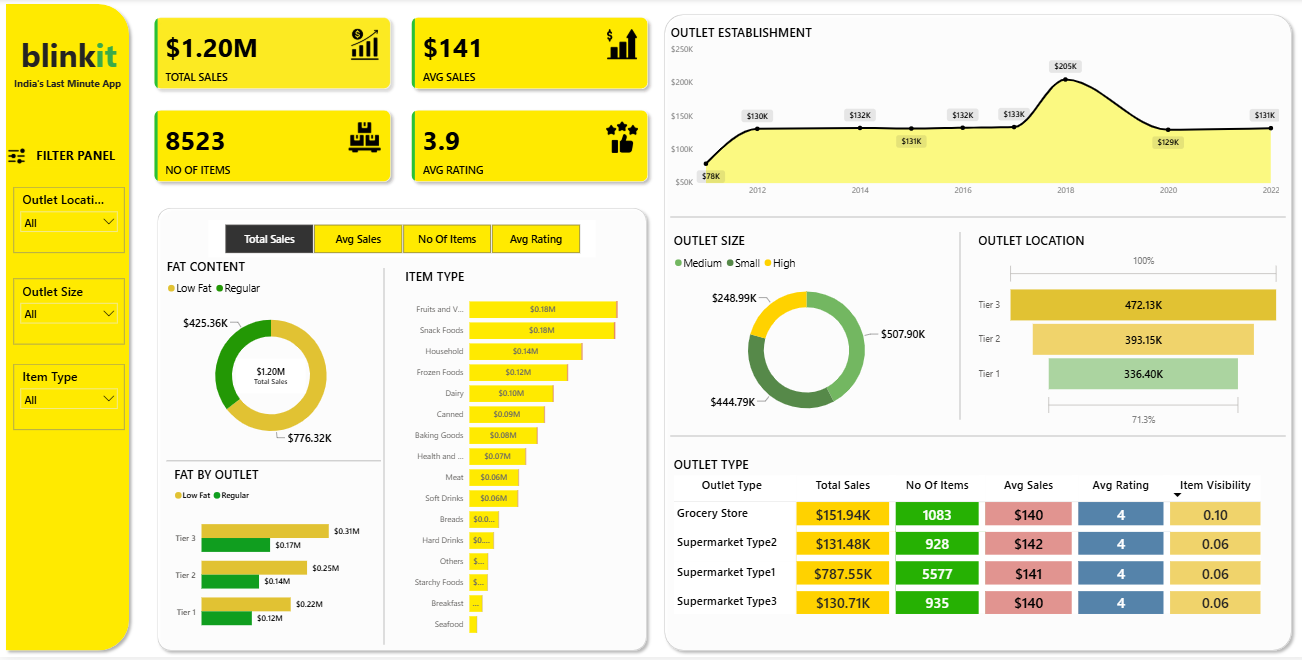

The page's visual inventory and layout, read from the dashboard file:
{"tool":"powerbi","page":{"name":"Page 1","canvas":[2000,1000],"ordinal":0},"visuals":[{"type":"shape","box":[0,0,205,1000],"z":0},{"type":"textbox","box":[24.3,48.6,159.1,88.4],"z":1000},{"type":"textbox","box":[11.4,113.9,182.2,41],"z":2000},{"type":"cardVisual","fields":{"Data":["BlinkIT Grocery Data.Total Sales","BlinkIT Grocery Data.Avg Sales","BlinkIT Grocery Data.No Of Items","BlinkIT Grocery Data.Avg Rating"]},"box":[205,0,808.7,309.8],"z":3000},{"type":"shape","box":[230.1,309.8,760.8,690.2],"z":4000},{"type":"donutChart","title":"FAT CONTENT","fields":{"Y":["BlinkIT Grocery Data.Total Sales"],"Category":["BlinkIT Grocery Data.Item Fat Content"]},"box":[248.3,394.1,325.7,300.7],"z":5000},{"type":"cardVisual","fields":{"Data":["BlinkIT Grocery Data.Total Sales"]},"box":[353.1,542.1,116.2,63.8],"z":6000},{"type":"slicer","fields":{"Values":["Metrics 2.Metrics"]},"box":[316.6,337.1,587.7,56.9],"z":7000},{"type":"clusteredBarChart","title":"FAT BY OUTLET","fields":{"Y":["BlinkIT Grocery Data.Total Sales"],"Category":["BlinkIT Grocery Data.Outlet Location Type"],"Series":["BlinkIT Grocery Data.Item Fat Content"]},"box":[259.8,1122.7,383.5,253.6],"z":8000},{"type":"shape","box":[253.6,1098,395.9,9.3],"z":9000},{"type":"shape","box":[252.8,694.8,325.7,15.9],"z":10000},{"type":"barChart","title":"ITEM TYPE","fields":{"Y":["BlinkIT Grocery Data.Total Sales","BlinkIT Grocery Data.Avg Sales","BlinkIT Grocery Data.No Of Items","BlinkIT Grocery Data.Avg Rating"],"Category":["BlinkIT Grocery Data.Item Type"]},"box":[610.5,410,357.6,571.8],"z":11000},{"type":"shape","box":[555.8,410,54.7,571.8],"z":12000},{"type":"clusteredBarChart","title":"FAT BY OUTLET","fields":{"Y":["BlinkIT Grocery Data.Total Sales"],"Category":["BlinkIT Grocery Data.Outlet Location Type"],"Series":["BlinkIT Grocery Data.Item Fat Content"]},"box":[259.7,710.7,303,271.1],"z":13000},{"type":"shape","box":[1000,15.9,970.4,984.1],"z":14000},{"type":"lineChart","title":"OUTLET ESTABLISHMENT","fields":{"Y":["BlinkIT Grocery Data.Total Sales"],"Category":["BlinkIT Grocery Data.Outlet Establishment Year"]},"box":[1013.7,38.7,933.9,271.1],"z":15000},{"type":"shape","box":[1018.2,328,933.9,9.1],"z":16000},{"type":"donutChart","title":"OUTLET SIZE","fields":{"Y":["BlinkIT Grocery Data.Total Sales"],"Category":["BlinkIT Grocery Data.Outlet Size"]},"box":[1018.2,355.4,412.3,300.7],"z":17000},{"type":"shape","box":[1430.5,355.4,54.7,284.7],"z":18000},{"type":"funnel","title":"OUTLET LOCATION","fields":{"Y":["Sum(BlinkIT Grocery Data.Sales)"],"Category":["BlinkIT Grocery Data.Outlet Location Type"]},"box":[1480.6,355.4,467,300.7],"z":19000},{"type":"shape","box":[1018.2,660.6,933.9,9.1],"z":20000},{"type":"pivotTable","title":"OUTLET TYPE","fields":{"Rows":["BlinkIT Grocery Data.Outlet Type"],"Values":["BlinkIT Grocery Data.Total Sales","BlinkIT Grocery Data.No Of Items","BlinkIT Grocery Data.Avg Sales","BlinkIT Grocery Data.Avg Rating","Avg(BlinkIT Grocery Data.Item Visibility)"]},"box":[1018.2,694.8,929.4,287],"z":21000},{"type":"slicer","fields":{"Values":["BlinkIT Grocery Data.Outlet Location Type"]},"box":[20.5,287,168.6,100.2],"z":22000},{"type":"slicer","fields":{"Values":["BlinkIT Grocery Data.Outlet Size"]},"box":[20.5,426,168.6,100.2],"z":23000},{"type":"slicer","fields":{"Values":["BlinkIT Grocery Data.Item Type"]},"box":[20.5,555.8,168.6,100.2],"z":24000},{"type":"textbox","box":[41,221,148.1,36.4],"z":25000},{"type":"image","box":[12.5,220,27.5,37.5],"z":26000}]}

Visuals, with their boxes in screenshot pixels (x1, y1, x2, y2), scaled from the page's 2000x1000 canvas onto the 1302x660 screenshot:
shape: x1=0, y1=0, x2=133, y2=659
textbox: x1=16, y1=32, x2=119, y2=90
textbox: x1=7, y1=75, x2=126, y2=102
cardVisual - BlinkIT Grocery Data.Total Sales x BlinkIT Grocery Data.Avg Sales: x1=133, y1=0, x2=660, y2=204
shape: x1=150, y1=204, x2=645, y2=659
"FAT CONTENT" donutChart: x1=162, y1=260, x2=374, y2=459
cardVisual - BlinkIT Grocery Data.Total Sales: x1=230, y1=358, x2=306, y2=400
slicer - Metrics 2.Metrics: x1=206, y1=222, x2=589, y2=260
shape: x1=165, y1=459, x2=377, y2=469
"ITEM TYPE" barChart: x1=397, y1=271, x2=630, y2=648
shape: x1=362, y1=271, x2=397, y2=648
"FAT BY OUTLET" clusteredBarChart: x1=169, y1=469, x2=366, y2=648
shape: x1=651, y1=10, x2=1283, y2=659
"OUTLET ESTABLISHMENT" lineChart: x1=660, y1=26, x2=1268, y2=204
shape: x1=663, y1=216, x2=1271, y2=222
"OUTLET SIZE" donutChart: x1=663, y1=235, x2=931, y2=433
shape: x1=931, y1=235, x2=967, y2=422
"OUTLET LOCATION" funnel: x1=964, y1=235, x2=1268, y2=433
shape: x1=663, y1=436, x2=1271, y2=442
"OUTLET TYPE" pivotTable: x1=663, y1=459, x2=1268, y2=648
slicer - BlinkIT Grocery Data.Outlet Location Type: x1=13, y1=189, x2=123, y2=256
slicer - BlinkIT Grocery Data.Outlet Size: x1=13, y1=281, x2=123, y2=347
slicer - BlinkIT Grocery Data.Item Type: x1=13, y1=367, x2=123, y2=433
textbox: x1=27, y1=146, x2=123, y2=170
image: x1=8, y1=145, x2=26, y2=170
